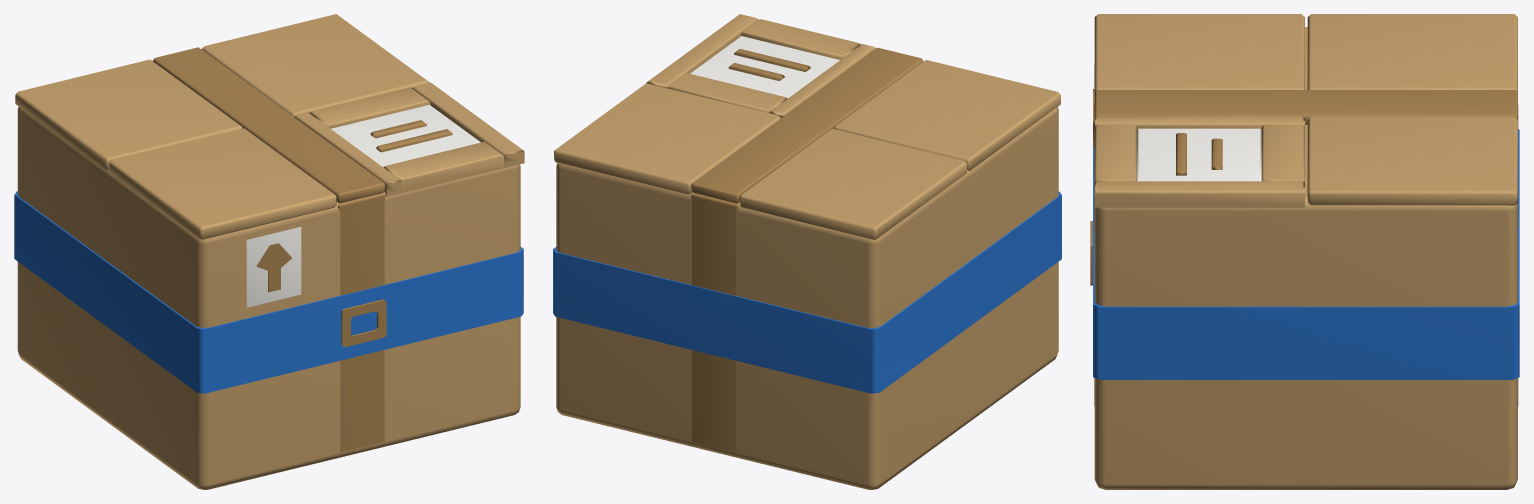
The model's file is fine_parcel.glb.
3 renders of one model, left to right at view 1: azimuth 30°, elevation 25°; view 2: azimuth 150°, elevation 25°; view 3: azimuth 270°, elevation 25°, orthographic. The views are drawn at different scales.
Visible parts, largest first — view 1: fine_parcel_structure; view 2: fine_parcel_structure; view 3: fine_parcel_structure.
Part boxes in pixels (x1,y1,x2,y2): fine_parcel_structure: (14, 14, 524, 489); fine_parcel_structure: (553, 14, 1061, 489); fine_parcel_structure: (1090, 14, 1519, 489).
Bounding box in the file's own units: 0.958 × 0.75 × 0.964.
